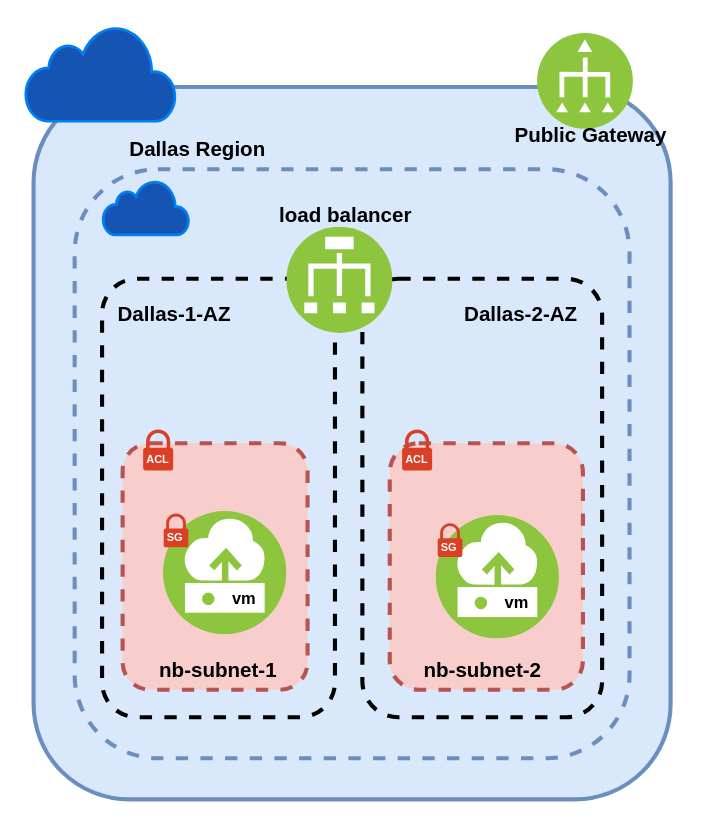
This 703x825 diagram has some shape labels left out. Here are the shapes that lost their labels. From the top down, the box of each, then its label:
(23, 23, 177, 122): IBM Cloud
(101, 178, 190, 236): VPC
